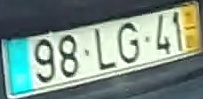1: (170, 9, 184, 53)
4: (154, 13, 172, 55)
8: (56, 33, 79, 79)
9: (32, 38, 55, 84)
G: (115, 20, 140, 64)
L: (93, 26, 117, 72)
